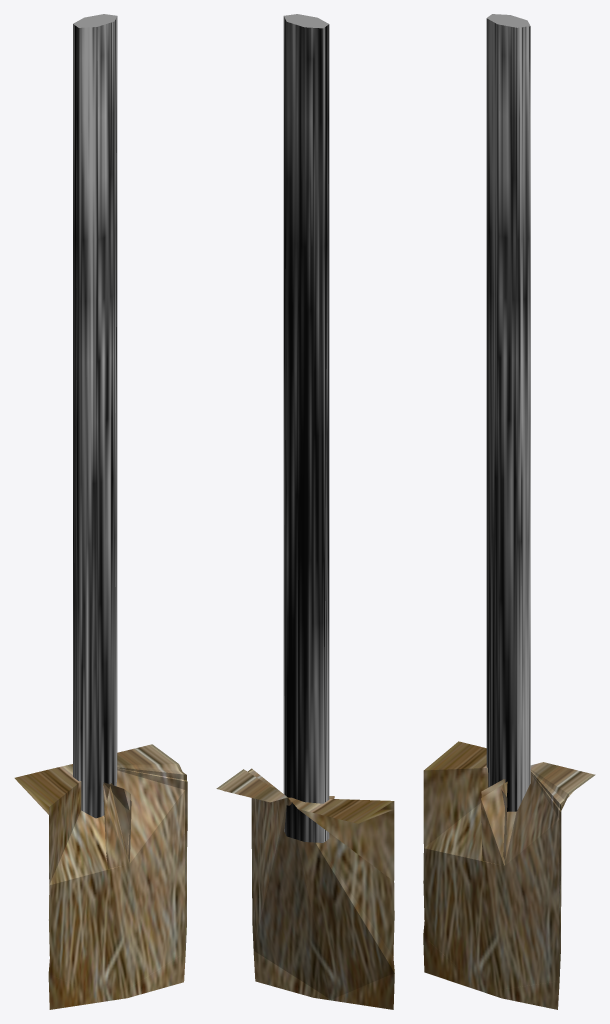
The model's file is broom_wtf.obj.
3 views of the same model, side by side, from view 1: azimuth 30°, elevation 25°; view 2: azimuth 150°, elevation 25°; view 3: azimuth 330°, elevation 25° (orthographic). The views are drawn at different scales.
Parts seen in each view (by area): view 1: group2, group1; view 2: group2, group1; view 3: group2, group1.
Boxes of the visible parts, x1=… form: group2: x1=73, y1=14, x2=117, y2=818; group1: x1=14, y1=744, x2=187, y2=1009; group2: x1=283, y1=14, x2=329, y2=842; group1: x1=216, y1=768, x2=394, y2=1009; group2: x1=486, y1=14, x2=530, y2=811; group1: x1=423, y1=741, x2=595, y2=1009.
Bounding box in the file's own units: 99.17 × 660 × 43.63.
